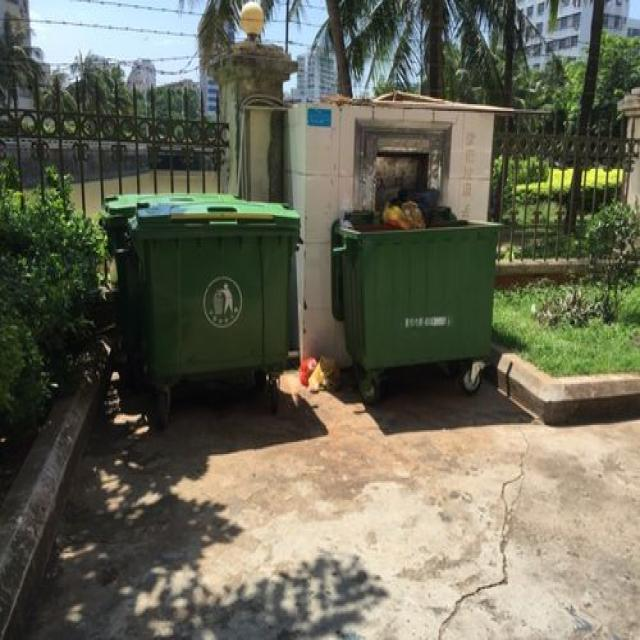garbage: (297, 353, 339, 389)
garbage_bin: (127, 196, 301, 374)
overflow: (330, 196, 503, 369)
